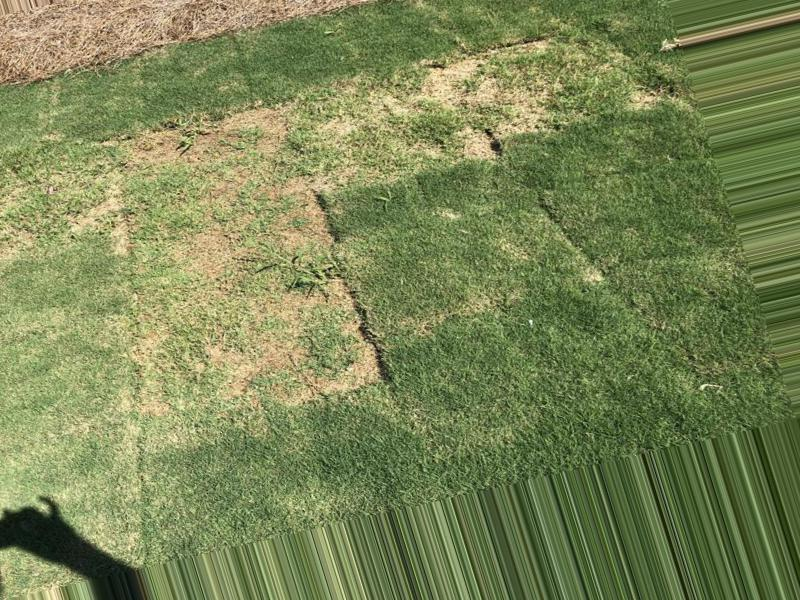patch: (137, 137, 340, 405), (256, 107, 474, 178), (384, 72, 625, 132), (8, 177, 134, 243)
